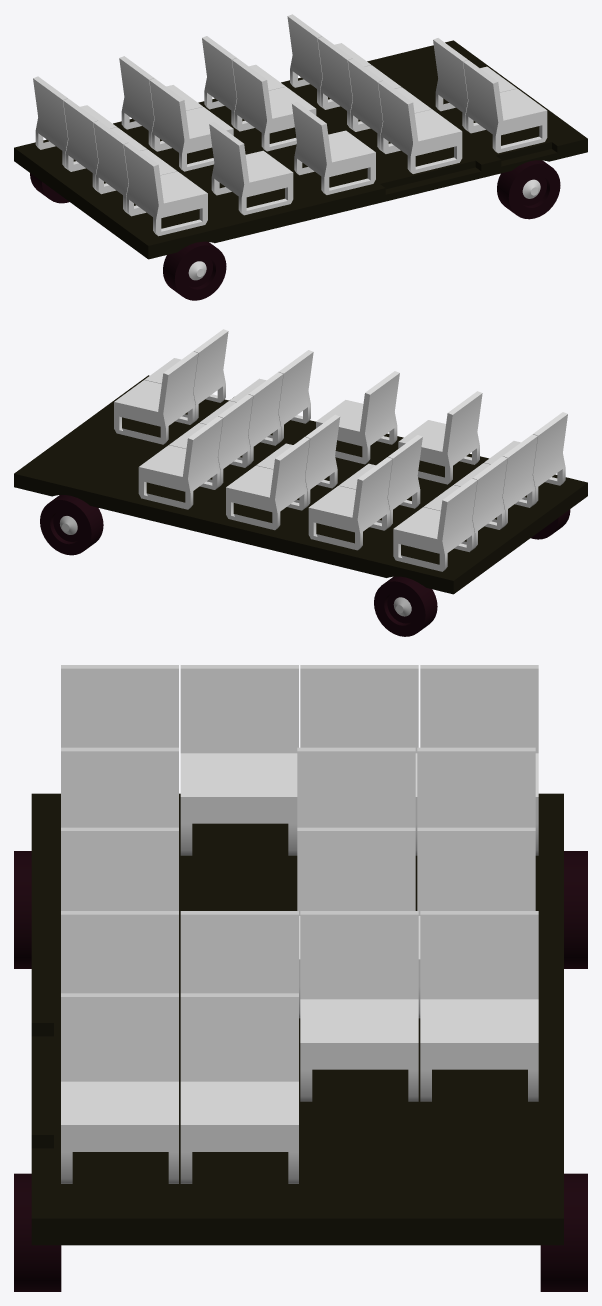
The model's file is sprinter.glb.
The picture shows the model from 3 angles, top to bottom: view 1: azimuth 30°, elevation 25°; view 2: azimuth 150°, elevation 25°; view 3: azimuth 270°, elevation 25°; orthographic projection. The views are drawn at different scales.
Visible parts, largest first — view 1: Base, CH_15, CH_5, CH_11, CH_8, CH_1, CH_9, CH_6, Pneu_DG, Pneu_AG, CH_16, CH_7 (+8 smaller); view 2: Base, CH_14, CH_4, CH_16, CH_7, CH_10, CH_8, CH_5, Pneu_AD, Pneu_DD, CH_13, CH_9 (+8 smaller); view 3: Base, CH_16, CH_13, CH_14, CH_2, CH_15, CH_10, CH_4, CH_9, CH_3, CH_8, CH_12 (+9 smaller).
Part boxes in pixels (<box>): Base: <box>14,40,587,259</box>; CH_15: <box>463,60,547,153</box>; CH_5: <box>209,122,293,215</box>; CH_11: <box>378,80,462,173</box>; CH_8: <box>292,102,375,194</box>; CH_1: <box>123,143,207,236</box>; CH_9: <box>232,58,316,151</box>; CH_6: <box>149,78,233,171</box>; Pneu_DG: <box>497,160,560,219</box>; Pneu_AG: <box>163,241,226,300</box>; CH_16: <box>433,38,516,130</box>; CH_7: <box>119,56,202,148</box>; Base: <box>14,375,587,594</box>; CH_14: <box>138,416,222,509</box>; CH_4: <box>393,478,477,571</box>; CH_16: <box>114,351,198,444</box>; CH_7: <box>308,457,392,550</box>; CH_10: <box>226,437,309,530</box>; CH_8: <box>316,371,399,464</box>; CH_5: <box>398,391,482,484</box>; Pneu_AD: <box>374,576,437,636</box>; Pneu_DD: <box>40,495,103,555</box>; CH_13: <box>169,394,252,487</box>; CH_9: <box>256,414,340,507</box>; Base: <box>31,793,563,1245</box>; CH_16: <box>180,993,298,1183</box>; CH_13: <box>300,911,418,1101</box>; CH_14: <box>420,911,538,1101</box>; CH_2: <box>180,665,298,855</box>; CH_15: <box>61,993,178,1183</box>; CH_10: <box>417,827,535,1018</box>; CH_4: <box>420,665,538,855</box>; CH_9: <box>297,827,415,1018</box>; CH_3: <box>300,665,418,855</box>; CH_8: <box>61,827,178,910</box>; CH_12: <box>180,911,298,993</box>.
Size of the model in its own units: 4.78 by 1.39 by 2.73.
